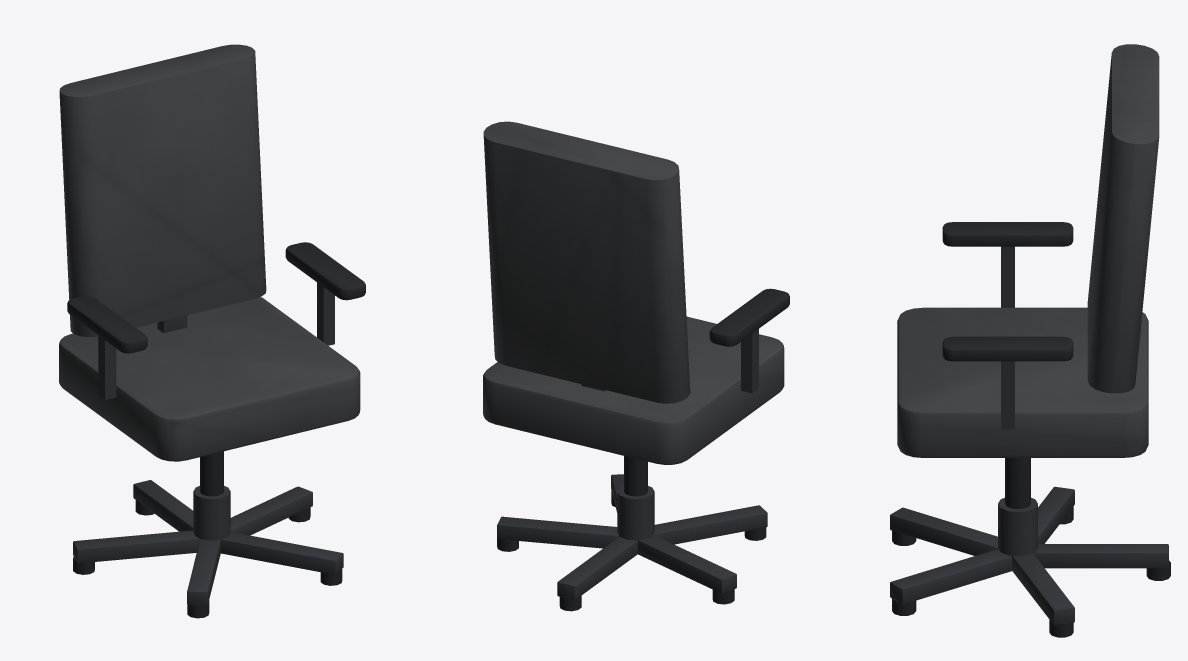
Rendered from office_chair.glb.
The picture shows the model from 3 angles, left to right: view 1: azimuth 30°, elevation 25°; view 2: azimuth 150°, elevation 25°; view 3: azimuth 270°, elevation 25°; orthographic projection. The views are drawn at different scales.
Parts seen in each view (by area): view 1: Back, Seat, Star_Leg_02, Star_Leg_04, Arm_Pad_L, Arm_Pad_R, Star_Leg_05, Lift_Boot, Star_Leg_01, Star_Leg_03, Arm_Post_L, Gas_Lift (+1 smaller); view 2: Back, Seat, Star_Leg_05, Star_Leg_03, Star_Leg_02, Arm_Pad_L, Star_Leg_01, Lift_Boot, Arm_Post_L, Gas_Lift; view 3: Seat, Back, Arm_Pad_R, Star_Leg_01, Arm_Pad_L, Star_Leg_04, Star_Leg_03, Star_Leg_05, Lift_Boot, Star_Leg_02, Gas_Lift, Arm_Post_R (+1 smaller).
Part boxes in pixels (x1,y1,x2,y2): Back: (59, 44, 266, 336); Seat: (59, 297, 360, 461); Star_Leg_02: (73, 530, 199, 563); Star_Leg_04: (221, 532, 343, 574); Arm_Pad_L: (67, 295, 147, 353); Arm_Pad_R: (285, 242, 365, 300); Star_Leg_05: (230, 486, 312, 535); Lift_Boot: (193, 486, 230, 540); Star_Leg_01: (133, 480, 193, 531); Star_Leg_03: (187, 539, 220, 606); Arm_Post_L: (98, 336, 116, 400); Gas_Lift: (200, 451, 223, 496); Back: (483, 121, 690, 403); Seat: (483, 316, 784, 464); Star_Leg_05: (497, 516, 619, 548); Star_Leg_03: (654, 505, 767, 544); Star_Leg_02: (638, 535, 736, 593); Arm_Pad_L: (709, 288, 789, 346); Star_Leg_01: (557, 536, 637, 600); Lift_Boot: (617, 486, 654, 541); Arm_Post_L: (741, 329, 758, 393); Gas_Lift: (624, 456, 647, 496); Seat: (897, 307, 1148, 457); Back: (1087, 44, 1159, 393); Arm_Pad_R: (942, 336, 1073, 361); Star_Leg_01: (1034, 544, 1168, 568); Arm_Pad_L: (942, 222, 1073, 246); Star_Leg_04: (890, 549, 1011, 604); Star_Leg_03: (890, 507, 997, 555); Star_Leg_05: (1012, 553, 1074, 625); Lift_Boot: (998, 497, 1037, 556); Star_Leg_02: (1038, 486, 1074, 543); Gas_Lift: (1005, 458, 1030, 508); Arm_Post_R: (1001, 361, 1014, 429).
Size of the model in its own units: 0.62 by 1.1 by 0.62.
Materials: 5 (3 with a texture image).
